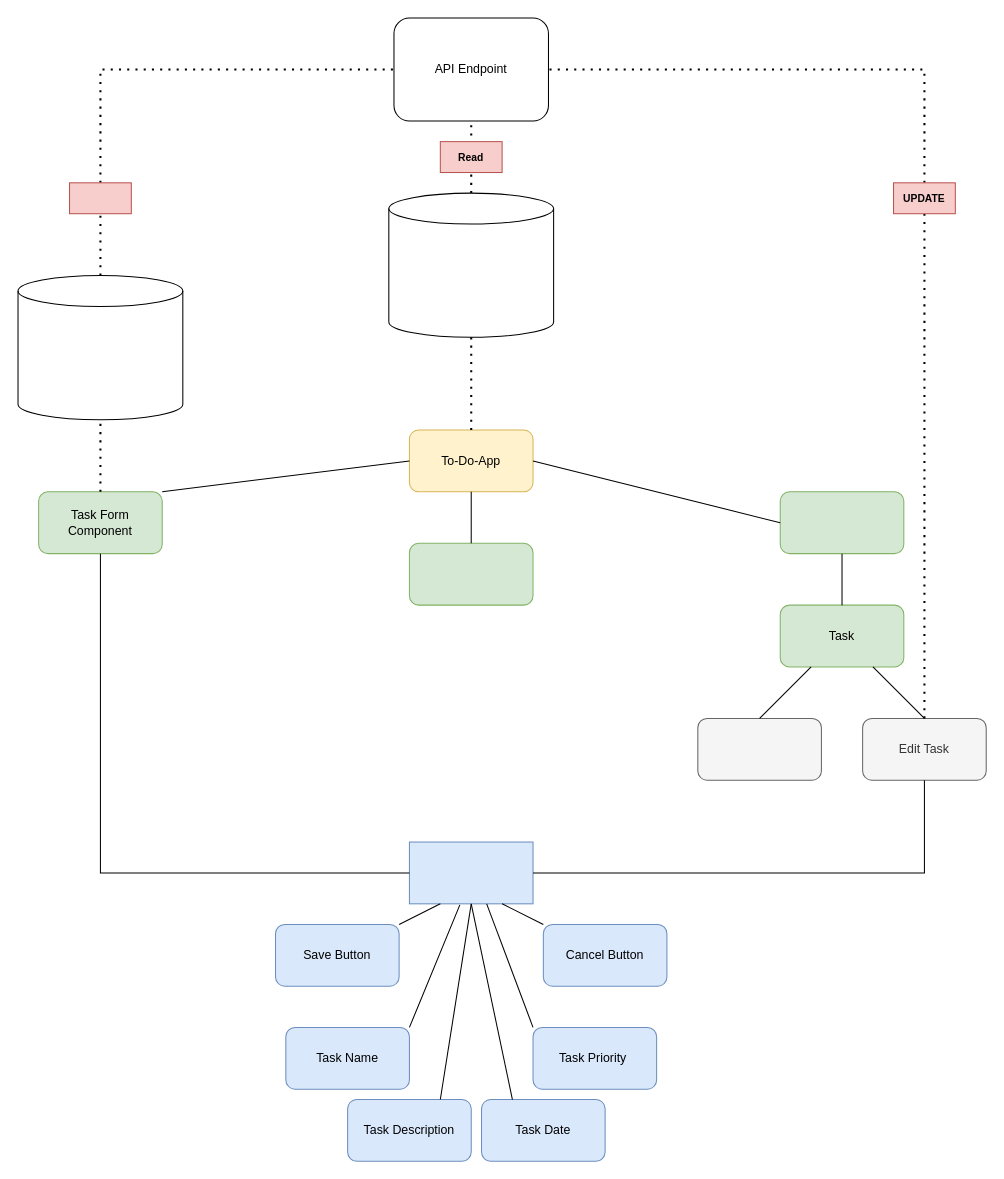
Image size: 1004x1179. Some labels were removed from this diagram. Each missing label, with the box of its shape:
Add Task Button: (408, 542, 533, 605)
Complete Task: (697, 717, 821, 780)
Create: (68, 182, 131, 214)
Inbox: (779, 491, 904, 554)
Shared Components: (408, 841, 533, 904)
state: { taskList, viewForm }: (388, 192, 554, 337)
state: { taskName, taskDescription, taskDate, taskPriority }: (17, 274, 183, 420)
